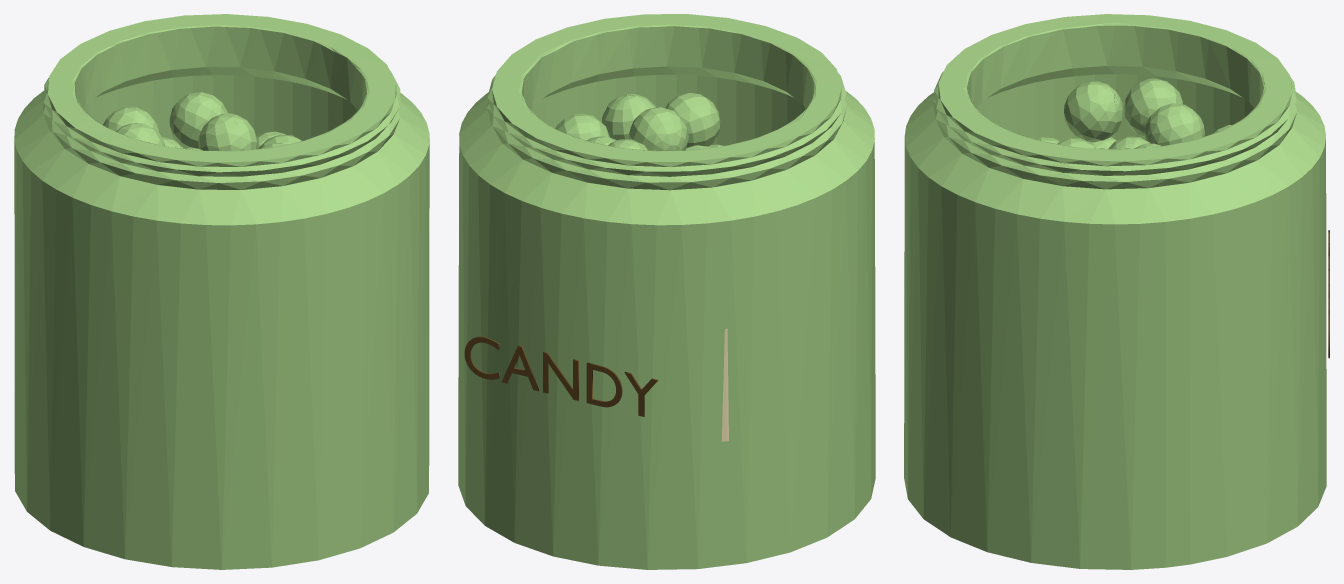
File: CandyJar.dae
3 views of the same model, side by side, from view 1: azimuth 30°, elevation 25°; view 2: azimuth 150°, elevation 25°; view 3: azimuth 270°, elevation 25° (orthographic).
Parts seen in each view (by area): view 1: greenappleJar; view 2: greenappleJar, CandyJar_label_text, CandyJar_label_panel; view 3: greenappleJar.
Part boxes in pixels (box(x1,y1,x2,y2)): greenappleJar: box(14, 14, 429, 569); greenappleJar: box(458, 14, 875, 569); CandyJar_label_text: box(464, 336, 658, 416); CandyJar_label_panel: box(721, 328, 728, 441); greenappleJar: box(904, 14, 1326, 569).
Size of the model in its own units: 0.1511 by 0.1546 by 0.1614.
